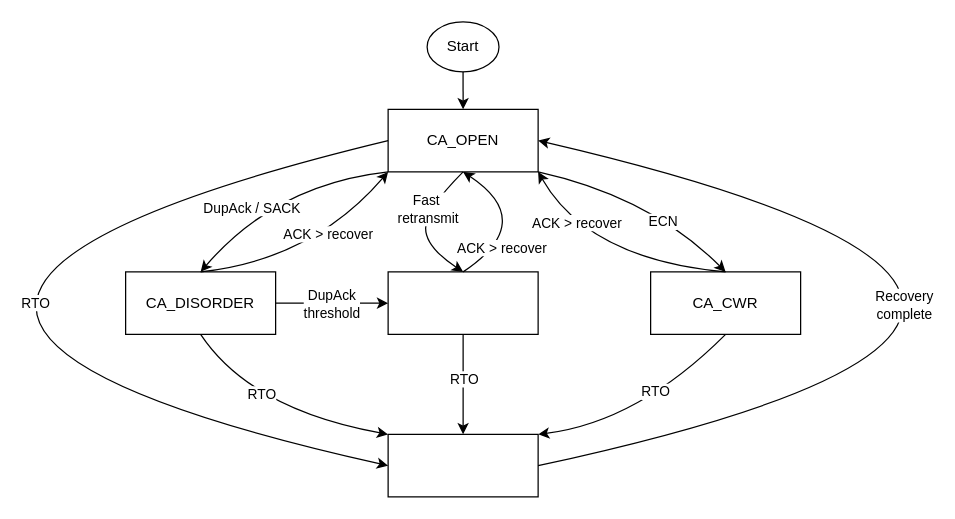
Image size: 955x519. Some labels were removed from this diagram. Each missing label, with the box of its shape:
CA_LOSS: (387, 433, 538, 497)
CA_RECOVER: (387, 271, 538, 334)
